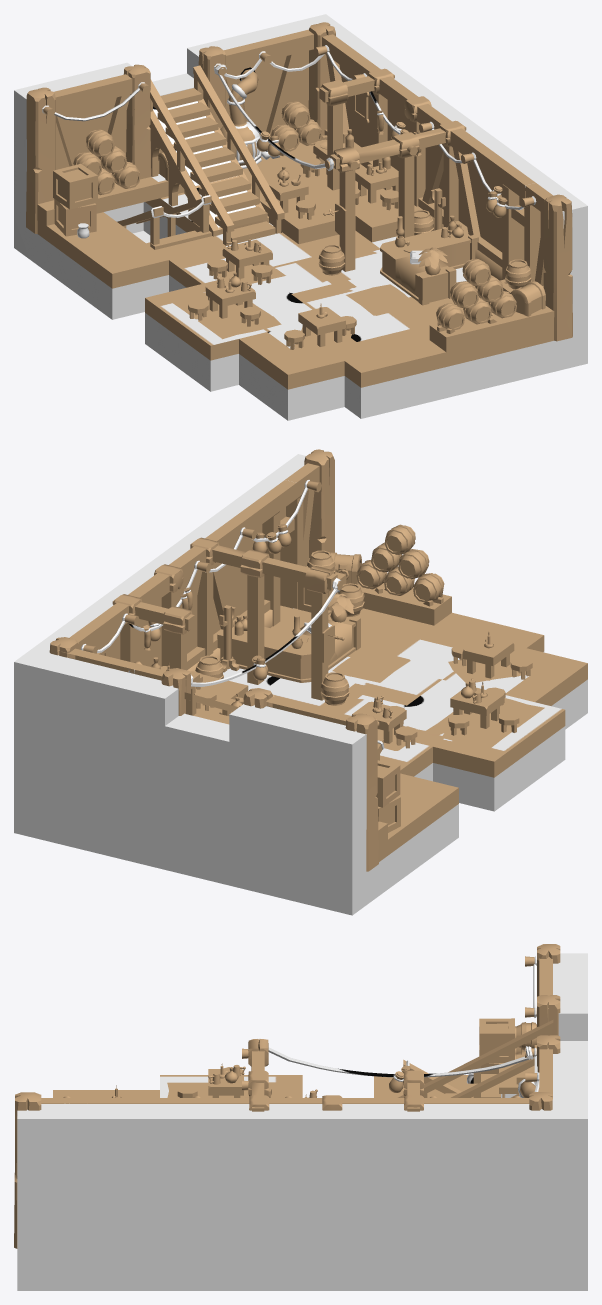
Rendered from FantasyInn.obj.
3 views of the same model, one above another, from view 1: azimuth 30°, elevation 25°; view 2: azimuth 150°, elevation 25°; view 3: azimuth 270°, elevation 25° (orthographic). The views are drawn at different scales.
Visible parts, largest first — view 1: TheInn_Mesh; view 2: TheInn_Mesh; view 3: TheInn_Mesh.
Boxes of the visible parts, box(x1,y1,x2,y2) form: TheInn_Mesh: box(14, 14, 587, 420); TheInn_Mesh: box(14, 449, 587, 915); TheInn_Mesh: box(14, 944, 587, 1290).
Size of the model in its own units: 10.44 by 5.33 by 15.19.
